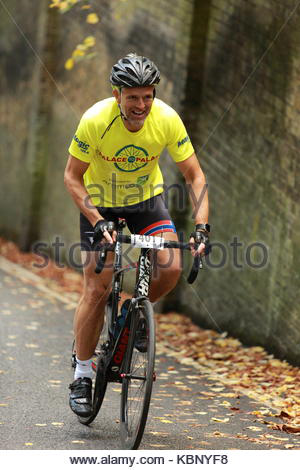bikerider: (48, 48, 211, 449)
